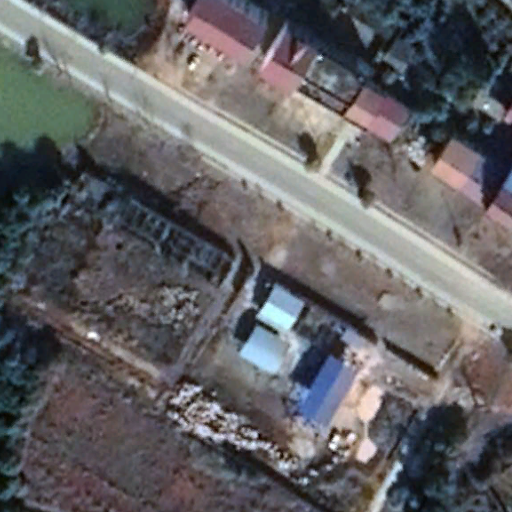msw: (171, 386, 300, 478)
